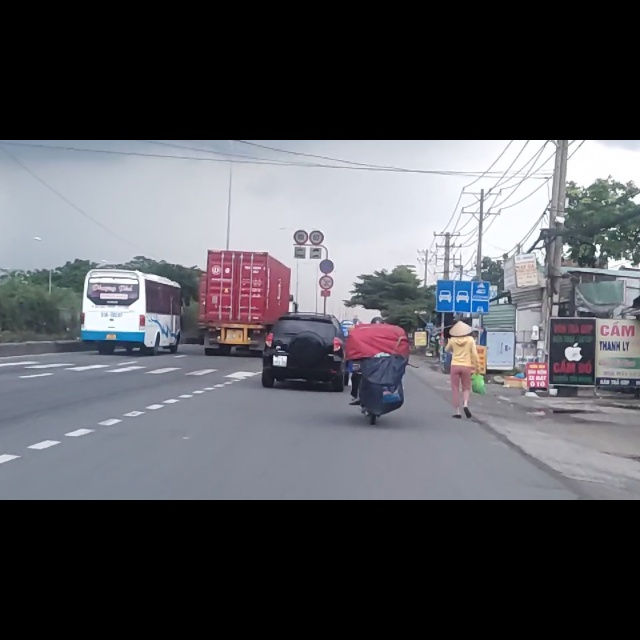bien_chi_dan: (436, 248, 490, 309), (319, 212, 335, 238), (309, 161, 324, 186), (319, 242, 333, 267), (294, 160, 308, 185)
